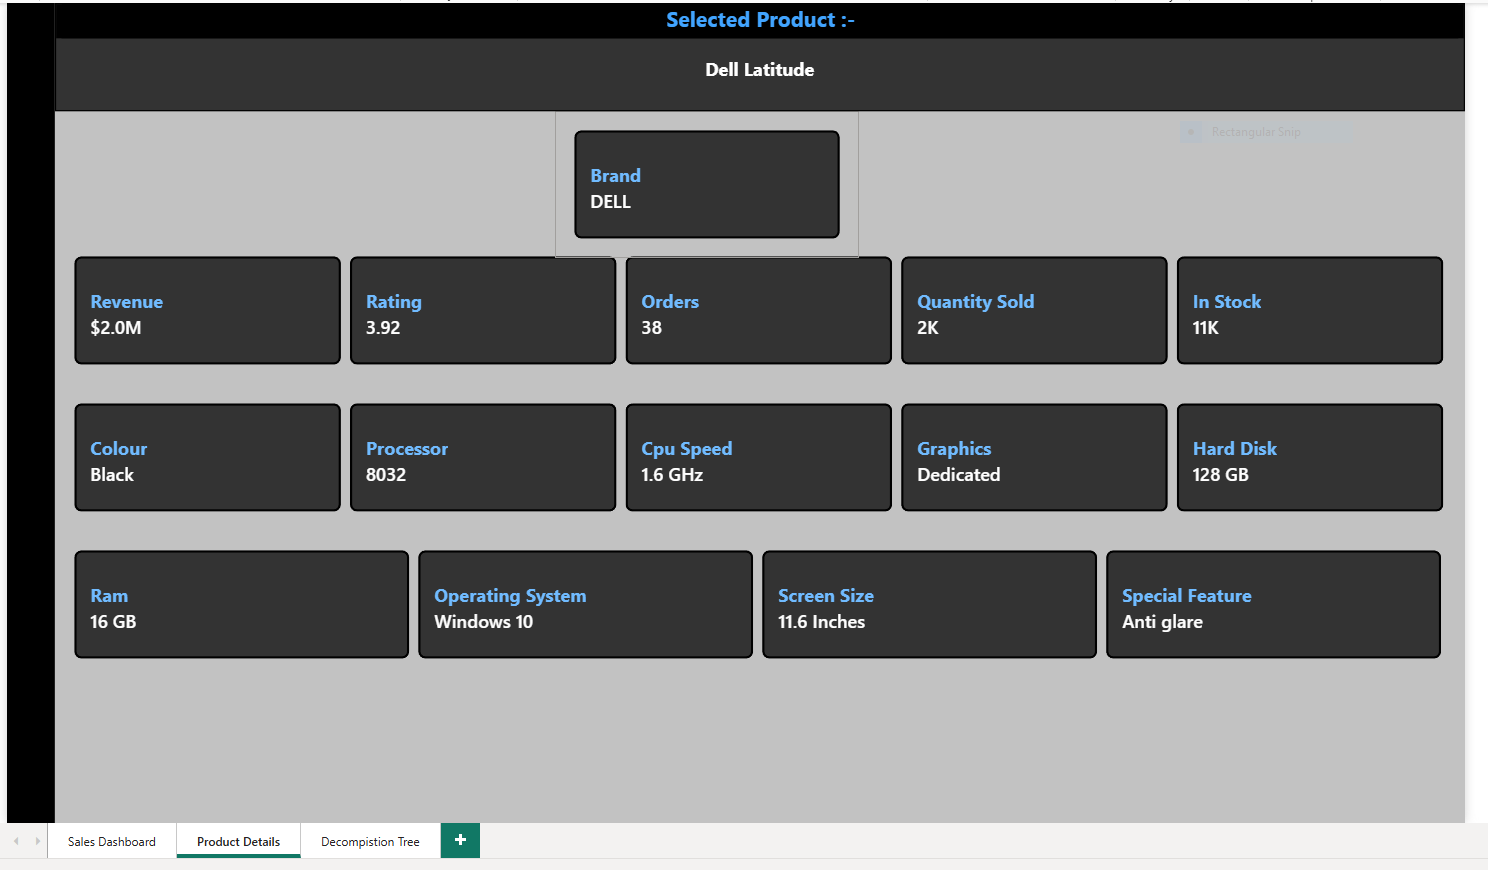

Layout of this report page (visuals, bound fields, positions):
{"tool":"powerbi","page":{"name":"Product Details","canvas":[1280,720],"ordinal":1},"visuals":[{"type":"shape","box":[0,0,42,720],"z":0},{"type":"cardVisual","fields":{"Data":["\"Measures\". Revenue","\"Measures\".Average Rating (Display)","\"Measures\".Orders","\"Measures\".Quantity Sold","\"Measures\".Stock Avaiblity"]},"box":[42.3,205.6,1237.7,129],"z":1000},{"type":"cardVisual","fields":{"Data":["Min(amazon_laptop_prices_v01 (1).color)","Min(amazon_laptop_prices_v01 (1).cpu)","Min(amazon_laptop_prices_v01 (1).cpu_speed)","Min(amazon_laptop_prices_v01 (1).graphics)","Min(amazon_laptop_prices_v01 (1).harddisk)"]},"box":[42.3,334.6,1237.7,129],"z":2000},{"type":"cardVisual","fields":{"Data":["Min(amazon_laptop_prices_v01 (1).ram)","Min(amazon_laptop_prices_v01 (1).OS)","Min(amazon_laptop_prices_v01 (1).screen_size)","Min(amazon_laptop_prices_v01 (1).special_features)"]},"box":[42.3,463.6,1237.7,129],"z":3000},{"type":"cardVisual","fields":{"Data":["Min(amazon_laptop_prices_v01 (1).brand)"]},"box":[480.8,94.7,267.1,129],"z":4000},{"type":"card","title":"Selected Product :-","fields":{"Values":["Min(amazon_laptop_prices_v01 (1).model)"]},"box":[42.3,0,1237.7,94.7],"z":5000}]}

Visuals, with their boxes on the page's 1280x720 design canvas (x1, y1, x2, y2). These are canvas units, not pixel positions in the 1488x870 screenshot, which may show the page scaled, cropped or inside an application window:
shape: 0,0,42,720
cardVisual - "Measures". Revenue x "Measures".Average Rating (Display): 42,206,1280,335
cardVisual - Min(amazon_laptop_prices_v01 (1).color) x Min(amazon_laptop_prices_v01 (1).cpu): 42,335,1280,464
cardVisual - Min(amazon_laptop_prices_v01 (1).ram) x Min(amazon_laptop_prices_v01 (1).OS): 42,464,1280,593
cardVisual - Min(amazon_laptop_prices_v01 (1).brand): 481,95,748,224
"Selected Product :-" card: 42,0,1280,95
